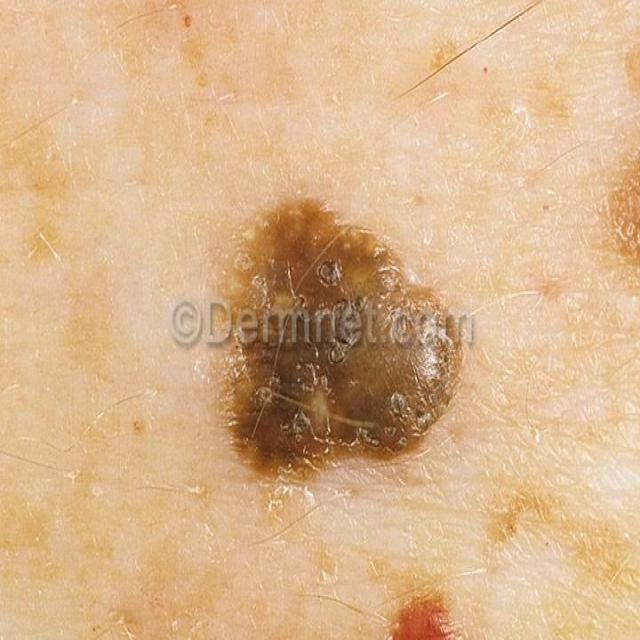Eczema: (211, 211, 468, 480)
